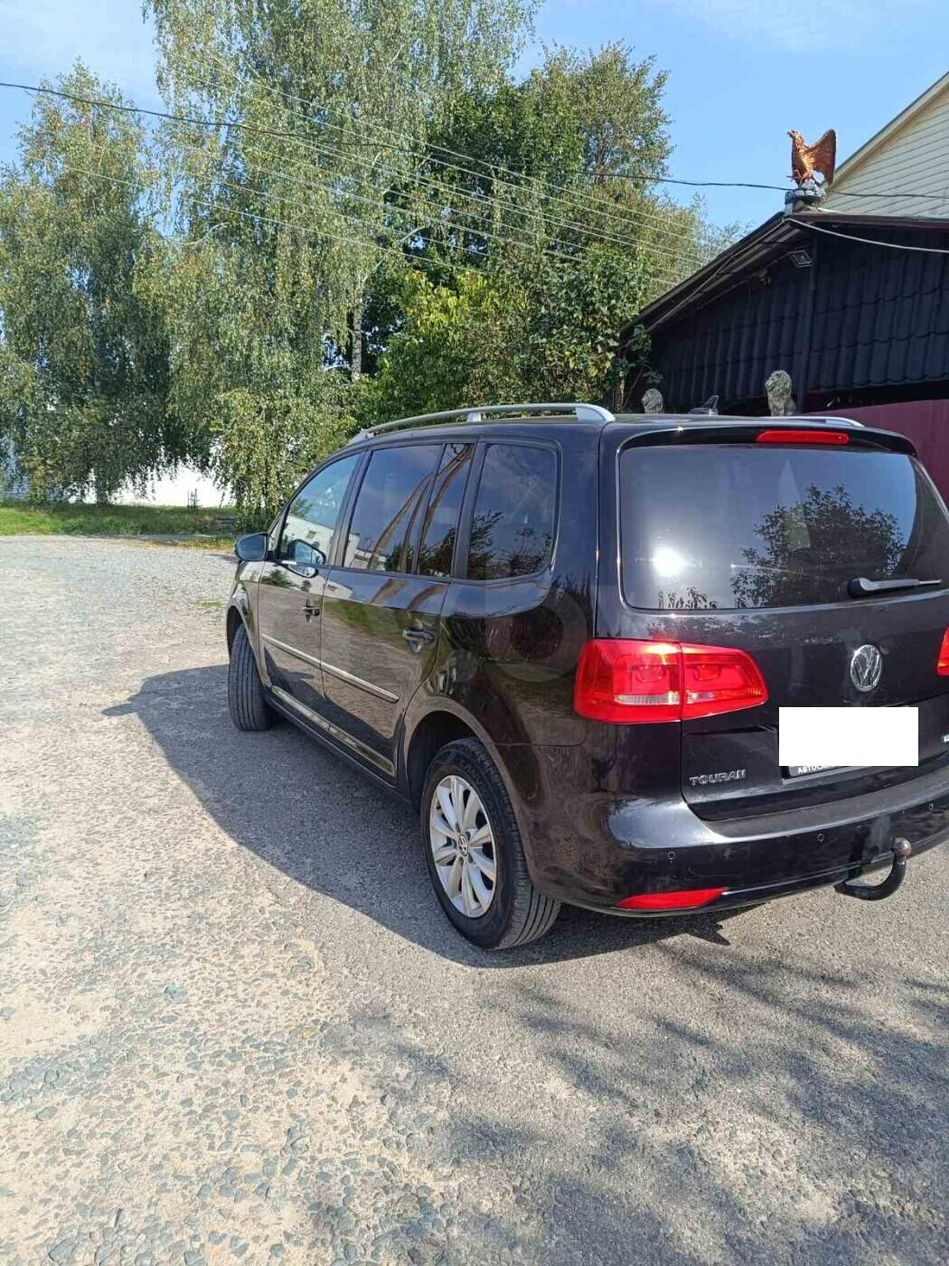Touran_2010-2015: (224, 394, 949, 962)
